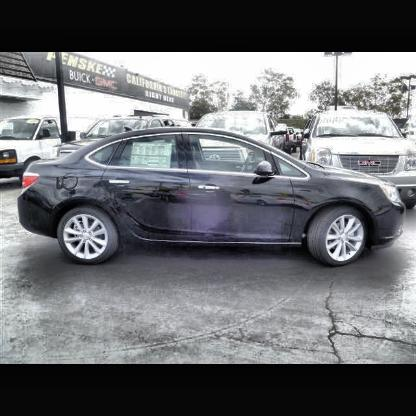Buick Verano Sedan 2012: (17, 128, 409, 269)
